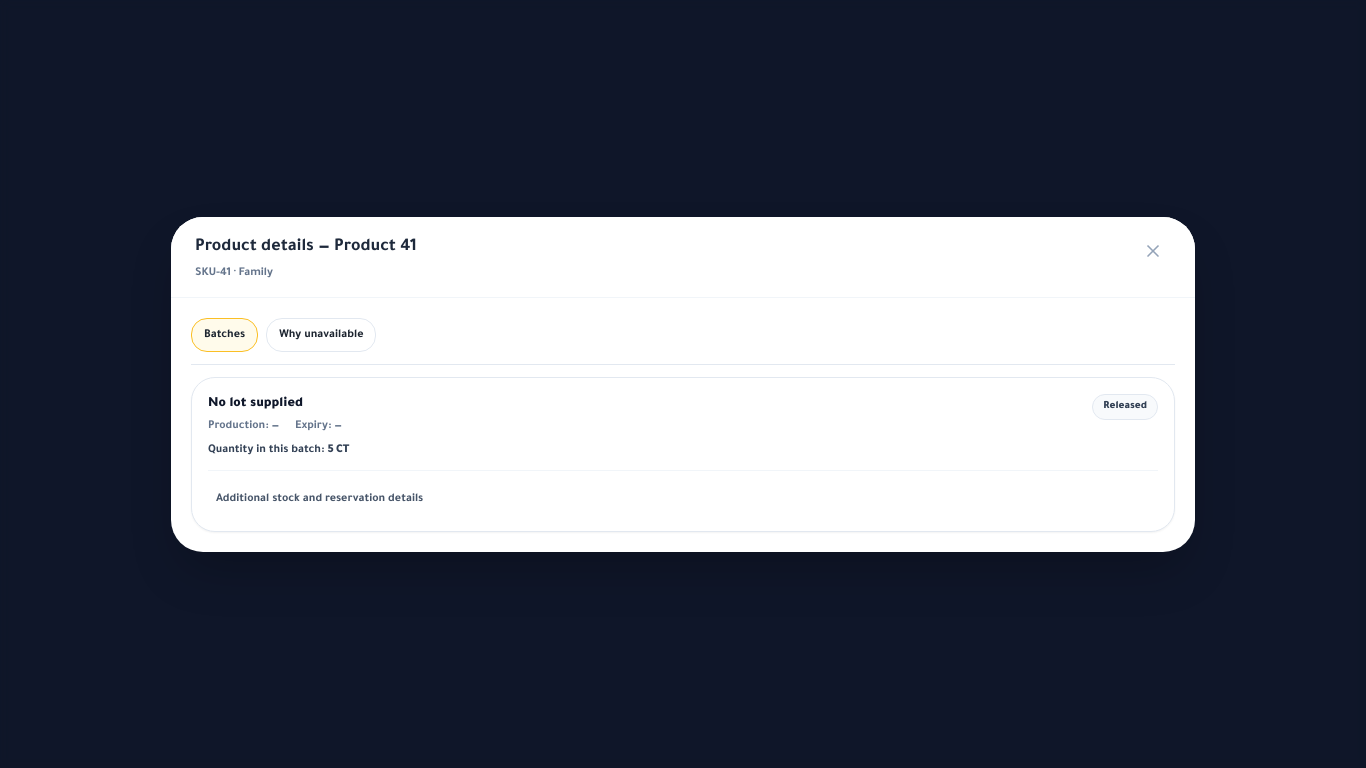
Test: UI-06 bounded reservation evidence disclosure › warns about truncated evidence and never renders beyond server-returned owners
Click the button "Additional stock and reservation details".
click(320, 498)  # box [208,482,431,514]
(page scrolled)
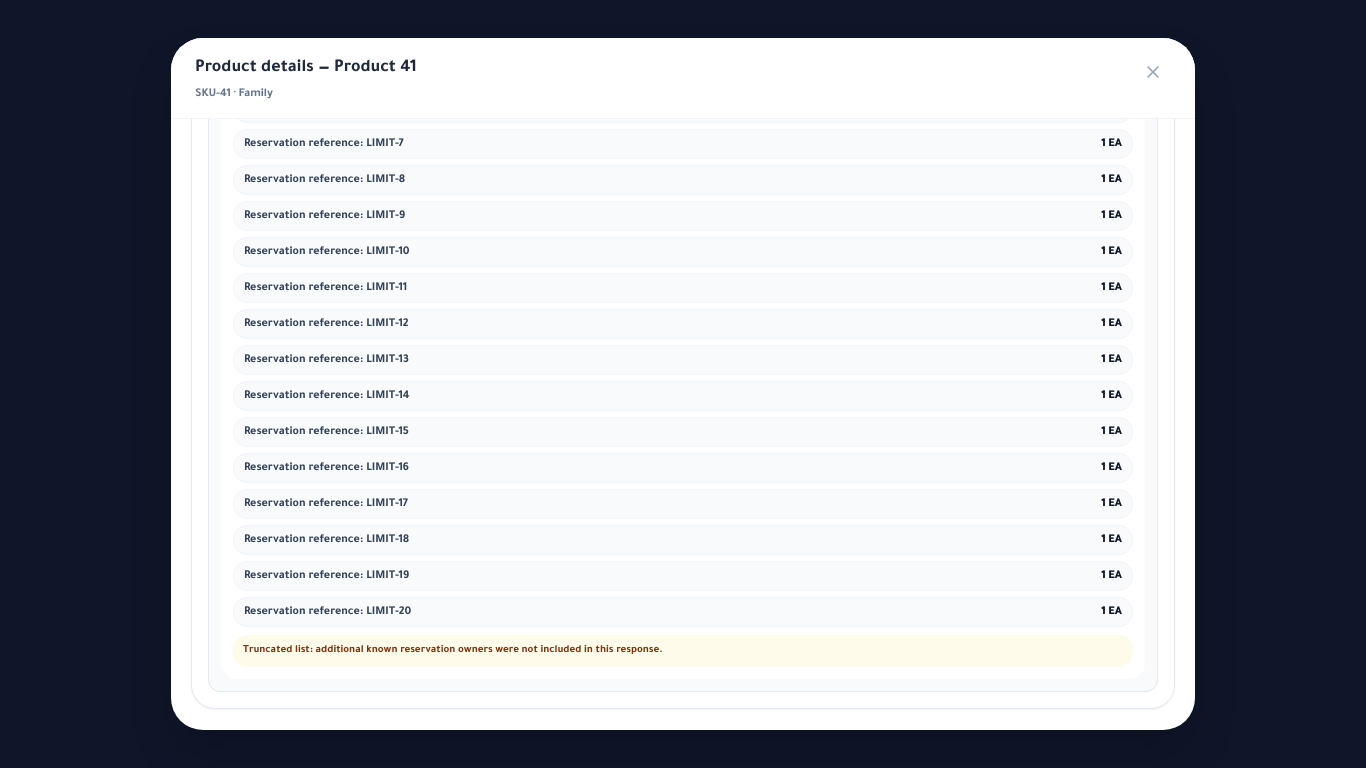
expect the text "Truncated list: additional known reservation owners" is shown: met, box [243,645,663,656]
expect the text "LIMIT-20" is shown: met, box [366,606,411,618]
expect the button "Batches" is gone: met
